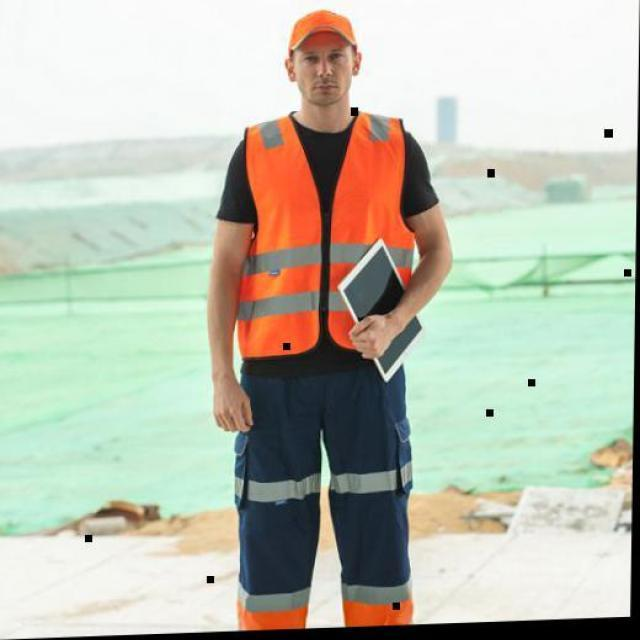safety_helmet: (205, 109, 454, 376)
